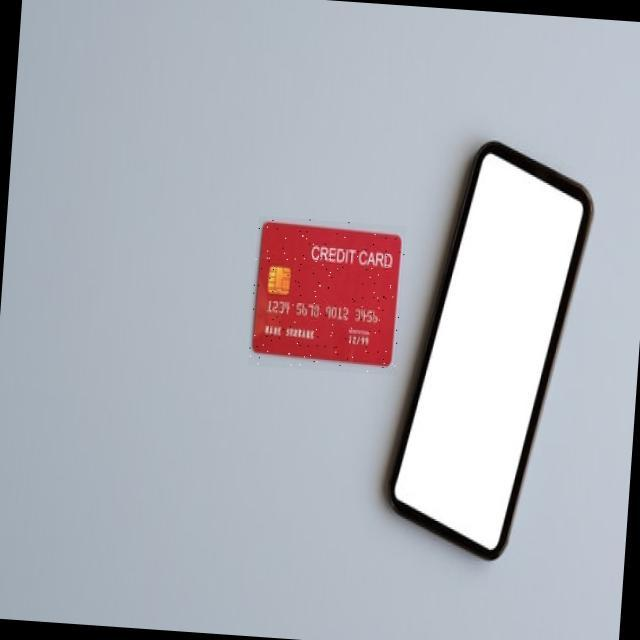payment_card: (250, 218, 402, 367)
